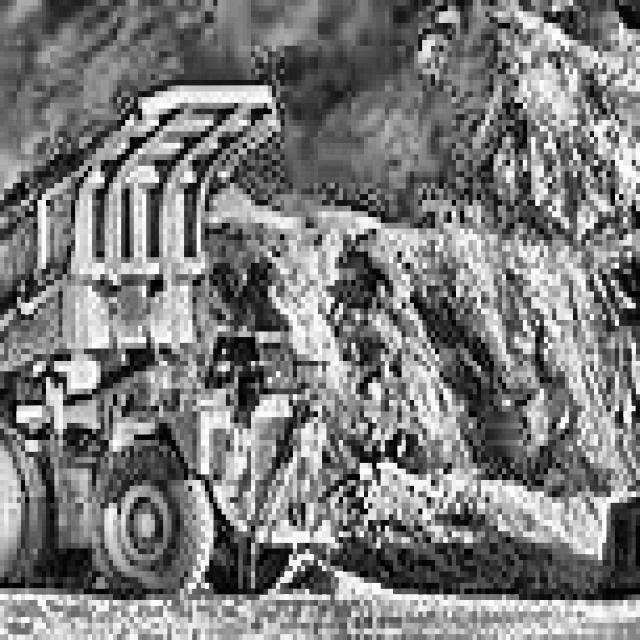dump_truck: (0, 69, 335, 606)
